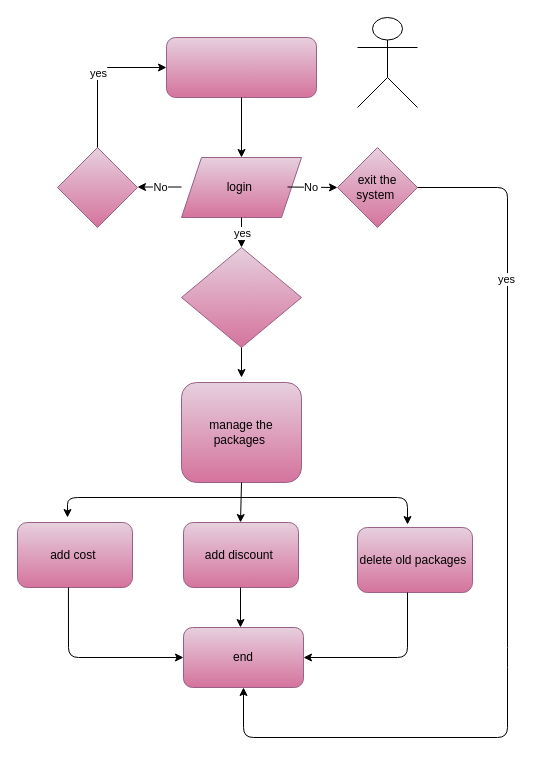
The diagram is 533 pixels wide and 763 high, and some of its shapes have lost their labels. Each missing label, with the centre of its shape:
"Admin" goes at [387,62].
"dashboard opens" goes at [241,297].
"Start" goes at [241,67].
"try again" goes at [97,187].
